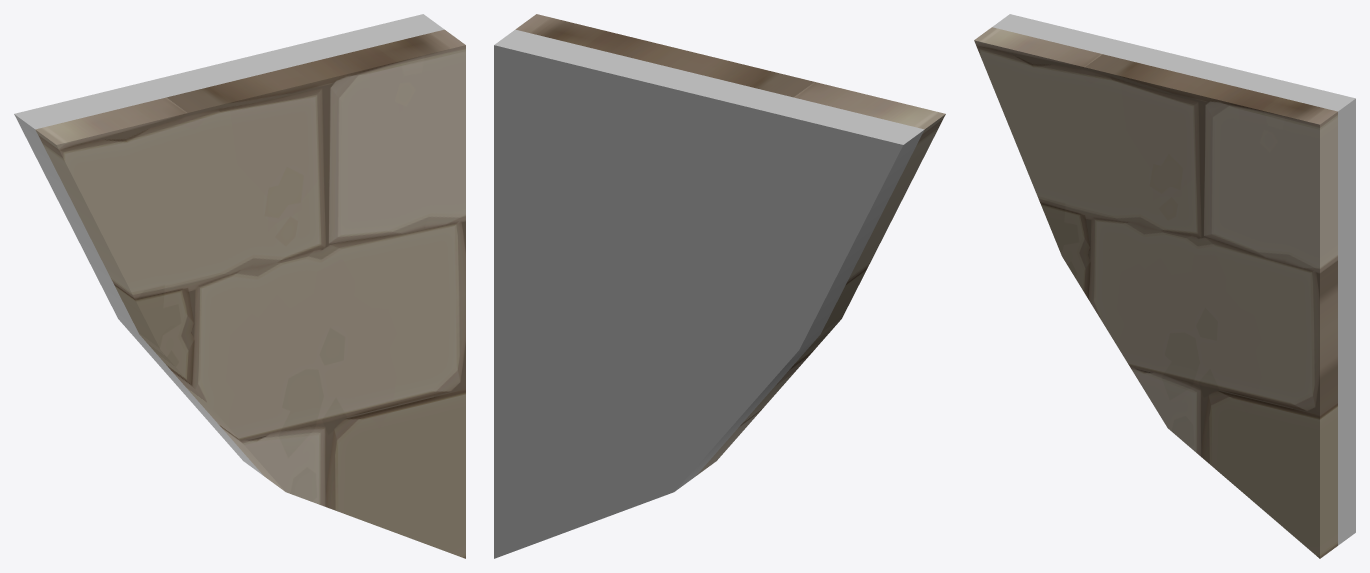
File: SM_Bld_Wall_End_Concave_Small_Inverted_01.fbx
3 renders of one model, left to right at view 1: azimuth 30°, elevation 25°; view 2: azimuth 150°, elevation 25°; view 3: azimuth 330°, elevation 25°, orthographic. The views are drawn at different scales.
Parts seen in each view (by area): view 1: SM_Bld_Wall_End_Concave_Small_Inverted_01; view 2: SM_Bld_Wall_End_Concave_Small_Inverted_01; view 3: SM_Bld_Wall_End_Concave_Small_Inverted_01.
Part boxes in pixels (x1=…): SM_Bld_Wall_End_Concave_Small_Inverted_01: x1=14, y1=14, x2=465, y2=558; SM_Bld_Wall_End_Concave_Small_Inverted_01: x1=494, y1=14, x2=945, y2=558; SM_Bld_Wall_End_Concave_Small_Inverted_01: x1=974, y1=14, x2=1355, y2=558.
Bounding box in the file's own units: 125 × 150 × 22.5.
